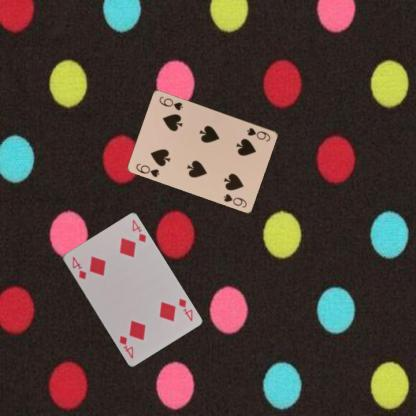4d: (70, 254, 88, 280), (176, 296, 193, 323)
6s: (245, 125, 272, 143), (134, 160, 160, 178)
